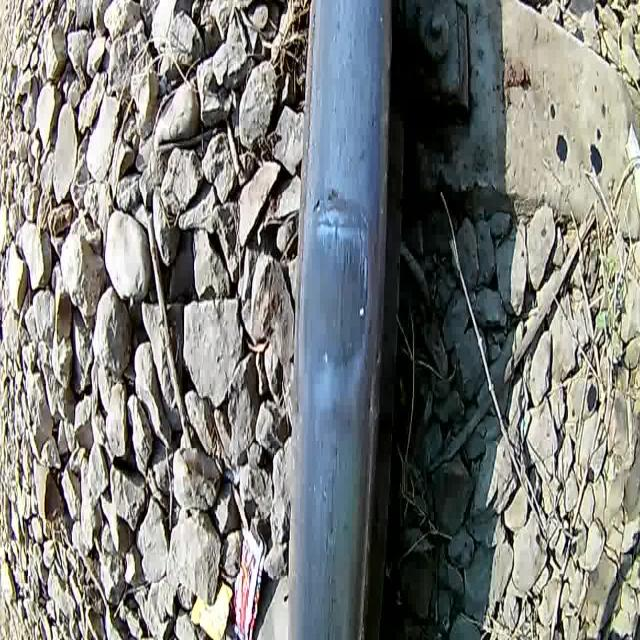Squats: (267, 0, 412, 640)
